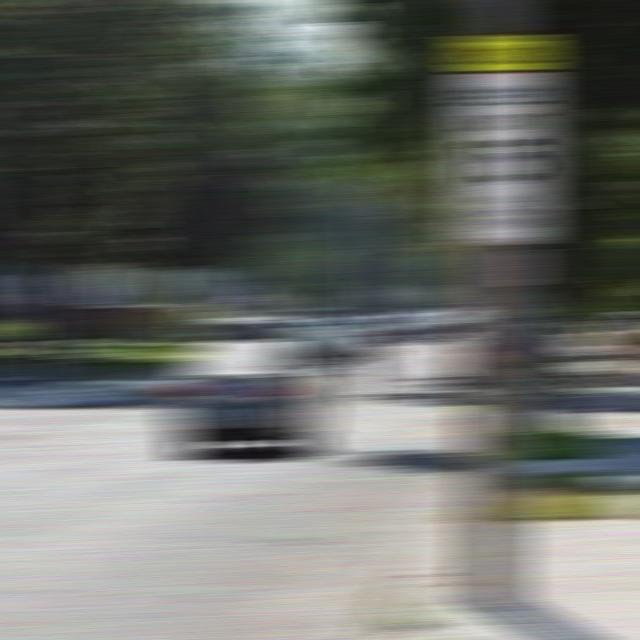speedLimit15: (443, 60, 558, 196)
